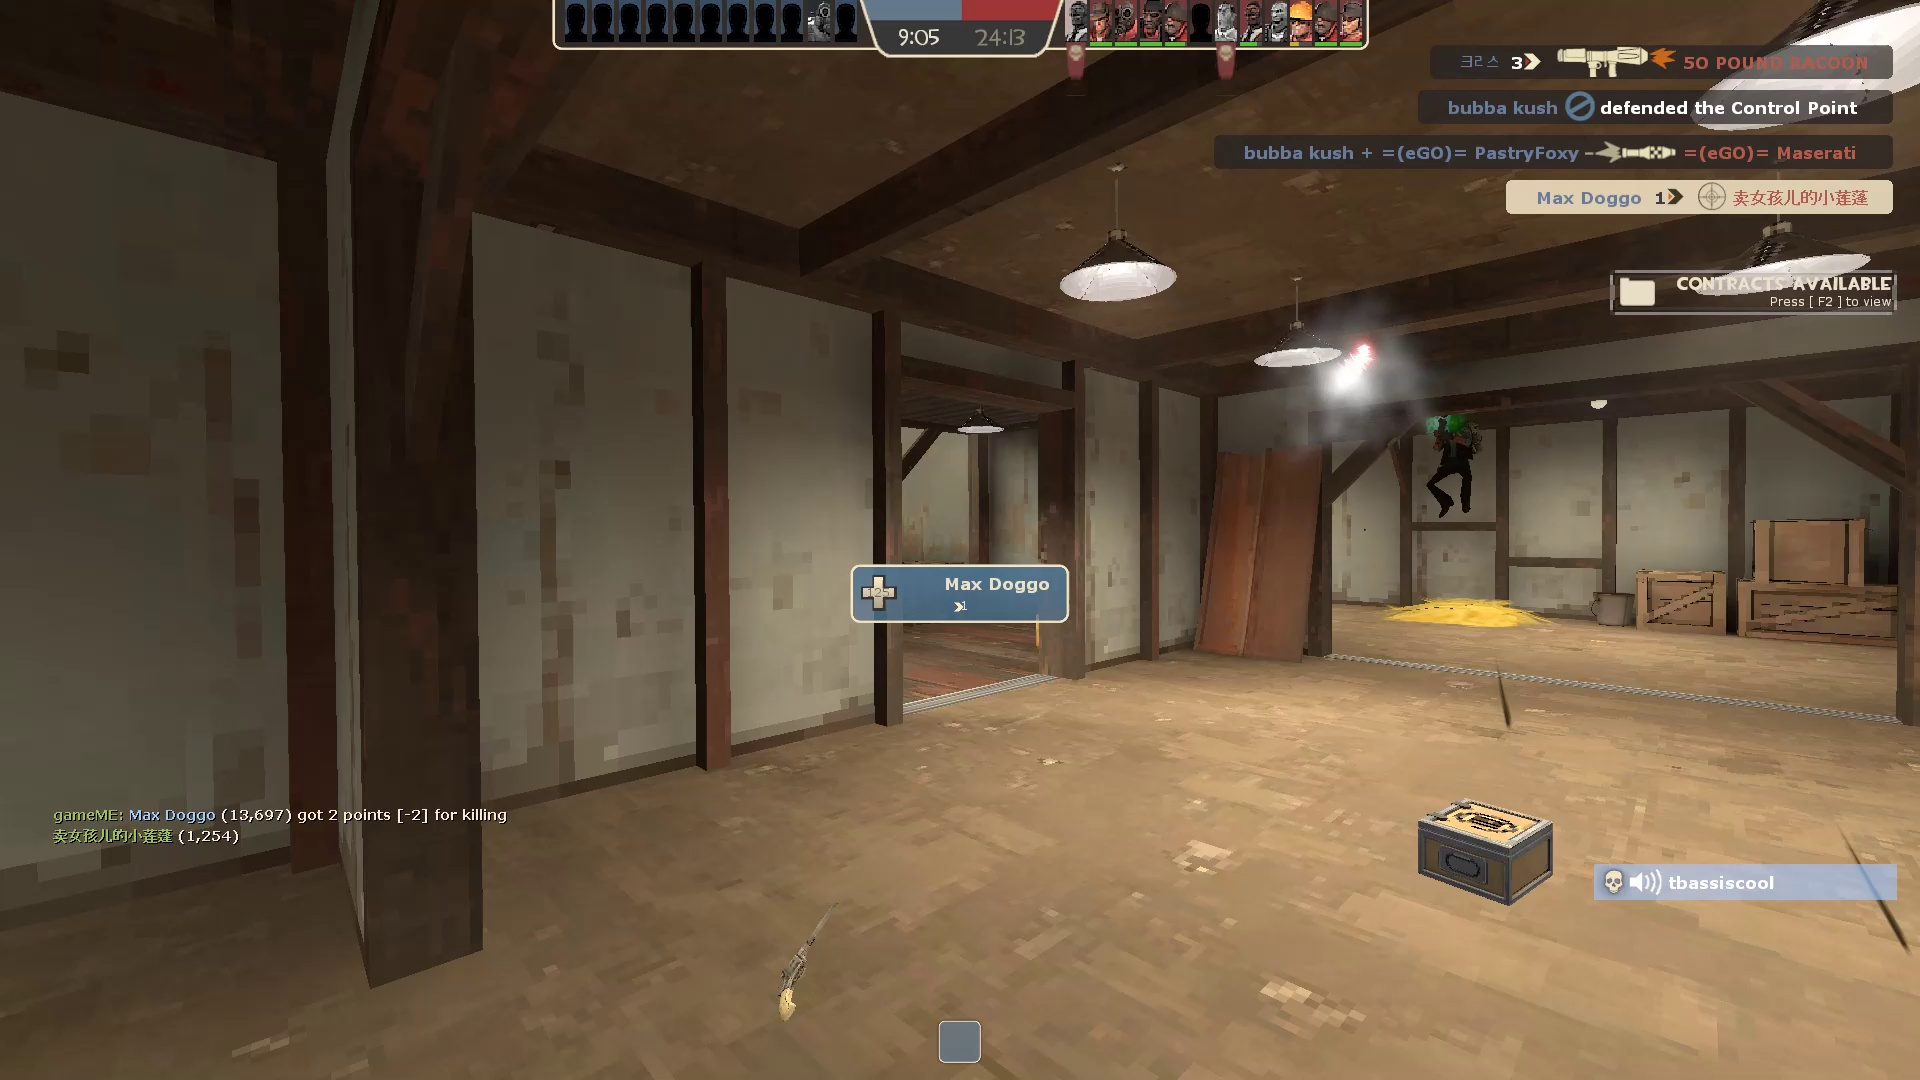blu_sniper: (1422, 393, 1489, 516)
